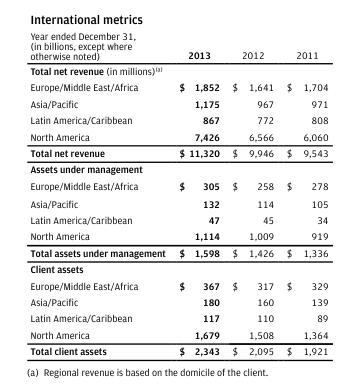table: (29, 28, 327, 356)
table column: (29, 28, 171, 356), (171, 28, 225, 356), (225, 28, 279, 356), (279, 28, 327, 356)
table column header: (29, 28, 327, 62)
table projected row header: (29, 160, 327, 177), (29, 62, 327, 78), (29, 260, 327, 276)
table row: (29, 28, 327, 62), (29, 94, 327, 111), (29, 127, 327, 144), (29, 160, 327, 177), (29, 177, 327, 194), (29, 194, 327, 211), (29, 243, 327, 260), (29, 276, 327, 293), (29, 309, 327, 326), (29, 62, 327, 78), (29, 78, 327, 94), (29, 111, 327, 127), (29, 144, 327, 160), (29, 211, 327, 227), (29, 227, 327, 243), (29, 260, 327, 276), (29, 293, 327, 309), (29, 326, 327, 342), (29, 342, 327, 356)
